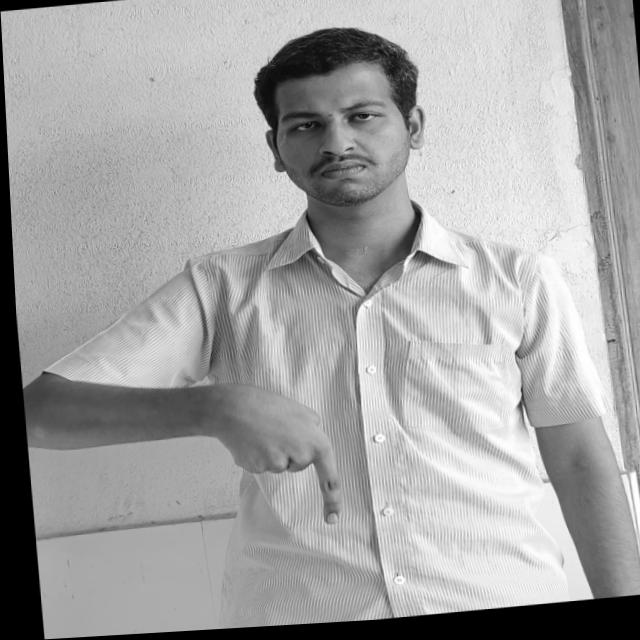Now: (207, 386, 340, 540)
